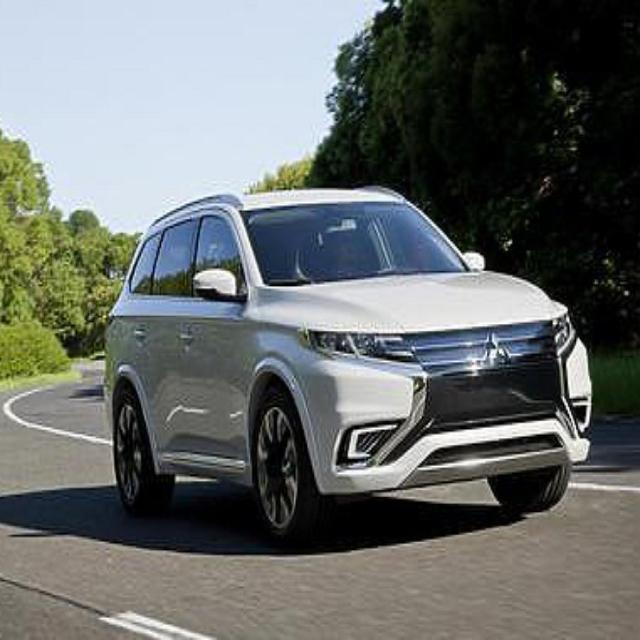light_vehicle: (102, 186, 592, 546)
